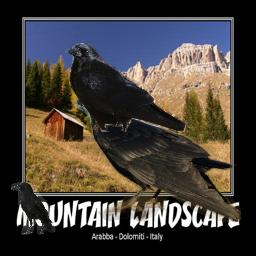Crow: (74, 90, 241, 222), (65, 43, 186, 132), (11, 182, 56, 235)
